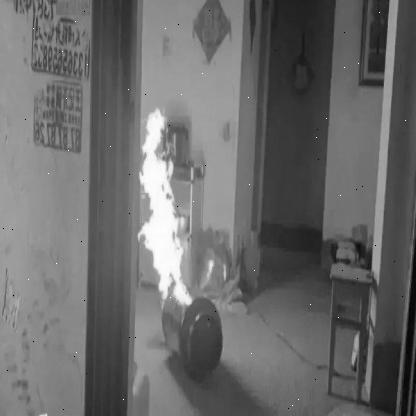fire: (129, 97, 185, 299)
